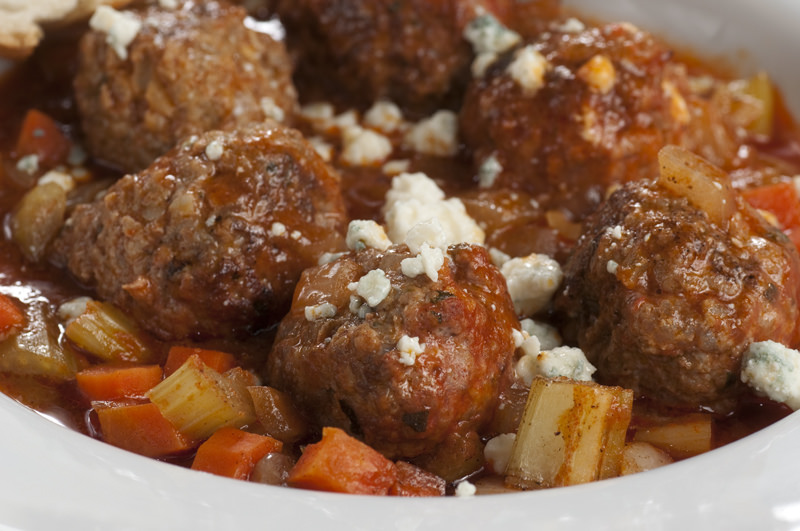meatballs: (54, 122, 354, 332), (280, 232, 521, 482), (555, 188, 771, 402), (461, 14, 699, 207), (74, 10, 311, 139), (304, 4, 487, 124)
